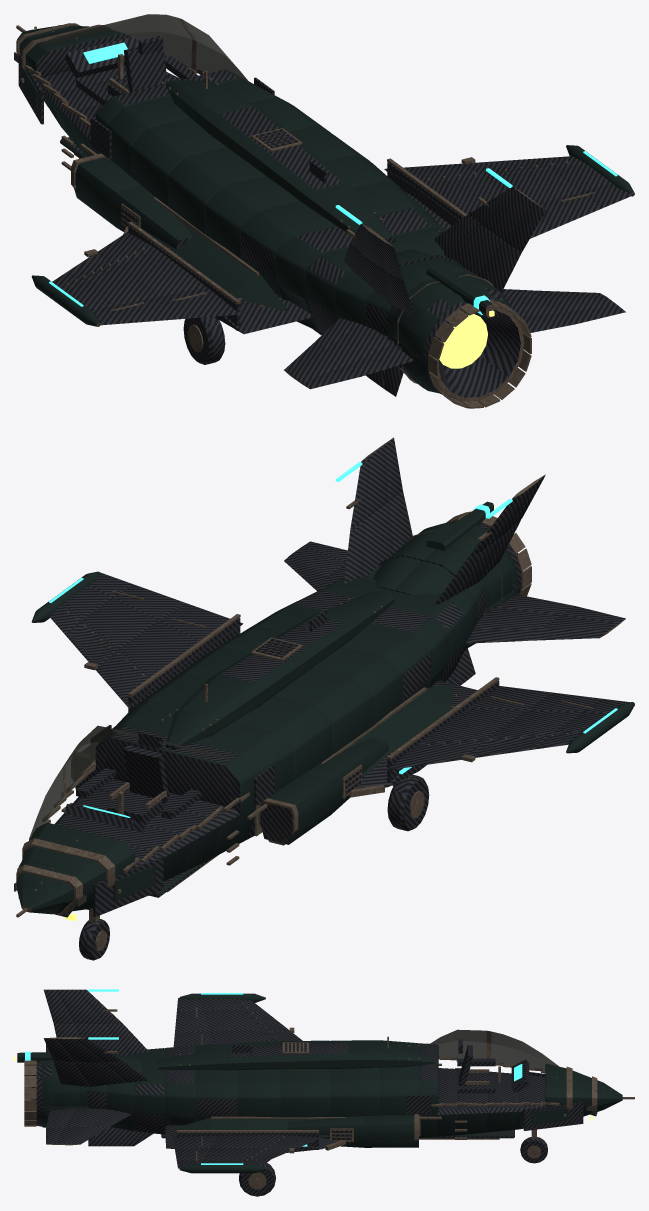
3 views of the same model, one above another, from view 1: azimuth 30°, elevation 25°; view 2: azimuth 150°, elevation 25°; view 3: azimuth 270°, elevation 25° (orthographic). The views are drawn at different scales.
Visible parts, largest first — view 1: kb3_core, kb3_wing_l, kb3_wing_r, kb3_tail_r, kb3_tail_l; view 2: kb3_core, kb3_wing_r, kb3_wing_l, kb3_tail_l, kb3_tail_r; view 3: kb3_core, kb3_tail_r, kb3_wing_l, kb3_wing_r, kb3_tail_l.
Boxes of the visible parts, <box> form: kb3_core: <box>14,14,531,408</box>; kb3_wing_l: <box>31,221,243,330</box>; kb3_wing_r: <box>384,145,634,238</box>; kb3_tail_r: <box>434,168,625,332</box>; kb3_tail_l: <box>284,205,414,389</box>; kb3_core: <box>14,501,531,960</box>; kb3_wing_r: <box>31,571,243,711</box>; kb3_wing_l: <box>384,677,634,782</box>; kb3_tail_l: <box>434,474,625,643</box>; kb3_tail_r: <box>284,437,412,591</box>; kb3_core: <box>14,1029,634,1196</box>; kb3_tail_r: <box>43,1037,148,1145</box>; kb3_wing_l: <box>173,993,302,1047</box>; kb3_wing_r: <box>173,1130,321,1173</box>; kb3_tail_l: <box>44,989,148,1055</box>.
Size of the model in its own units: 5.36 by 2.14 by 8.08.
6 materials, 2 textured.
